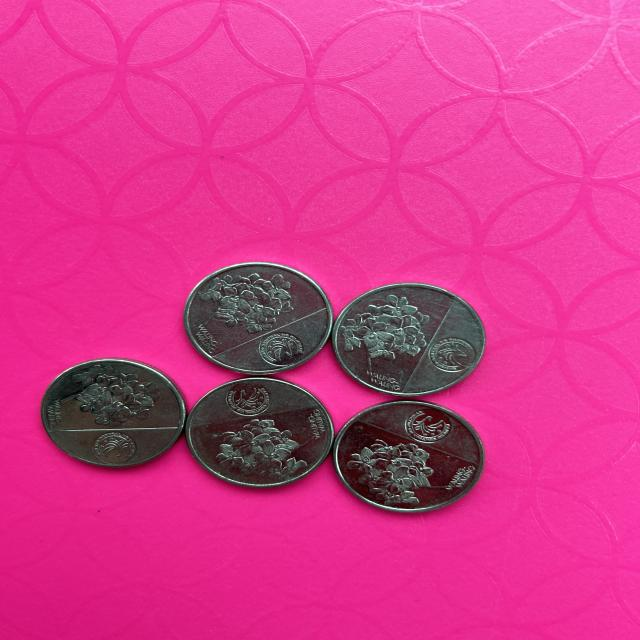1_New_Back: (352, 436, 438, 517), (201, 268, 295, 328), (215, 420, 308, 480), (348, 295, 424, 368), (66, 367, 155, 428)
